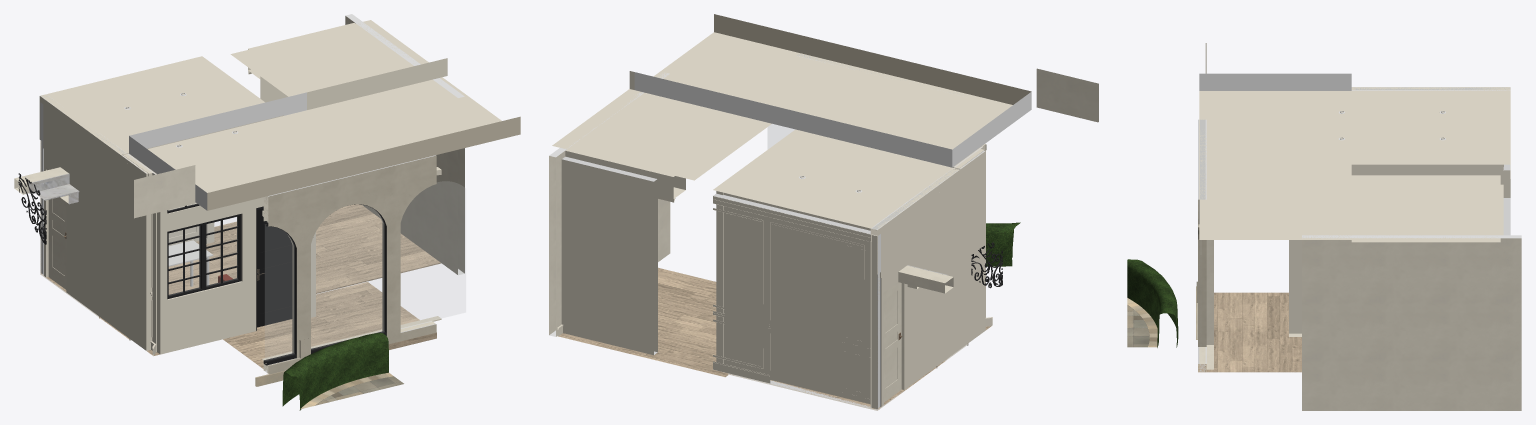
The model's file is office-west-a9446700d73e.glb.
3 renders of one model, left to right at view 1: azimuth 30°, elevation 25°; view 2: azimuth 150°, elevation 25°; view 3: azimuth 270°, elevation 25°, orthographic. The views are drawn at different scales.
Visible parts, largest first — view 1: office-west-look-dbd60ee5c3733ed6, office-west-6a051330000fbca1, office-west-look-c9e78b9ec1bb39cd, office-west-look-2575515a05775d9e, office-west-2575515a05775d9e, office-west-look-c02a36d0521470a9, office-west-a822d30aa9e2c55a, office-west-look-5cbcc744e6f960f3, office-west-look-3b0077416469e01b, office-west-look-6a1144f4e43410bb, office-west-look-c374268555806af8, office-west-look-e7e6fa835f441169 (+16 smaller); view 2: office-west-look-dbd60ee5c3733ed6, office-west-fca9ba73dd7496f7, office-west-6a051330000fbca1, office-west-look-19647d6da46c2b80, office-west-2575515a05775d9e, office-west-look-2575515a05775d9e, office-west-look-3b0077416469e01b, office-west-19647d6da46c2b80, office-west-look-6a1144f4e43410bb, office-west-look-34525a54e63b733b, office-west-dbd60ee5c3733ed6, office-west-80d276f58a4dc5cb (+10 smaller); view 3: office-west-look-6a1144f4e43410bb, office-west-look-dbd60ee5c3733ed6, office-west-2575515a05775d9e, office-west-look-2575515a05775d9e, office-west-look-c374268555806af8, office-west-dbd60ee5c3733ed6, office-west-look-e7e6fa835f441169, office-west-7b11e78295c2e11d, office-west-look-c9e78b9ec1bb39cd, office-west-look-982408871810a50e, office-west-look-e54cb06e326b7f4f, office-west-a822d30aa9e2c55a (+2 smaller).
Boxes of the visible parts, box(x1,y1,x2,y2) form: office-west-look-dbd60ee5c3733ed6: box(129, 77, 520, 210); office-west-6a051330000fbca1: box(39, 94, 156, 351); office-west-look-c9e78b9ec1bb39cd: box(263, 155, 436, 373); office-west-look-2575515a05775d9e: box(230, 20, 447, 109); office-west-2575515a05775d9e: box(40, 56, 283, 155); office-west-look-c02a36d0521470a9: box(311, 204, 384, 349); office-west-a822d30aa9e2c55a: box(157, 138, 308, 354); office-west-look-5cbcc744e6f960f3: box(401, 181, 465, 327); office-west-look-3b0077416469e01b: box(214, 204, 441, 293); office-west-look-6a1144f4e43410bb: box(345, 14, 464, 275); office-west-look-c374268555806af8: box(223, 282, 436, 368); office-west-look-e7e6fa835f441169: box(282, 332, 388, 410); office-west-look-dbd60ee5c3733ed6: box(634, 14, 1031, 166); office-west-fca9ba73dd7496f7: box(723, 193, 841, 396); office-west-6a051330000fbca1: box(870, 146, 985, 408); office-west-look-19647d6da46c2b80: box(561, 156, 657, 355); office-west-2575515a05775d9e: box(713, 129, 959, 228); office-west-look-2575515a05775d9e: box(552, 71, 771, 180); office-west-look-3b0077416469e01b: box(558, 267, 728, 377); office-west-19647d6da46c2b80: box(713, 193, 870, 407); office-west-look-6a1144f4e43410bb: box(549, 72, 670, 336); office-west-look-34525a54e63b733b: box(1036, 68, 1098, 122); office-west-dbd60ee5c3733ed6: box(795, 105, 984, 167); office-west-80d276f58a4dc5cb: box(884, 283, 901, 402); office-west-look-6a1144f4e43410bb: box(1302, 235, 1521, 410); office-west-look-dbd60ee5c3733ed6: box(1199, 73, 1351, 239); office-west-2575515a05775d9e: box(1351, 87, 1510, 164); office-west-look-2575515a05775d9e: box(1351, 175, 1500, 242); office-west-look-c374268555806af8: box(1198, 292, 1301, 372); office-west-dbd60ee5c3733ed6: box(1289, 90, 1351, 164); office-west-look-e7e6fa835f441169: box(1127, 259, 1178, 347); office-west-7b11e78295c2e11d: box(1289, 161, 1503, 336); office-west-look-c9e78b9ec1bb39cd: box(1198, 119, 1206, 371); office-west-look-982408871810a50e: box(1127, 298, 1157, 347); office-west-look-e54cb06e326b7f4f: box(1206, 240, 1213, 369); office-west-a822d30aa9e2c55a: box(1289, 91, 1296, 333).
Bounding box in the file's own units: 6.87 × 3.92 × 6.21.
Materials: 30 (9 with a texture image).
